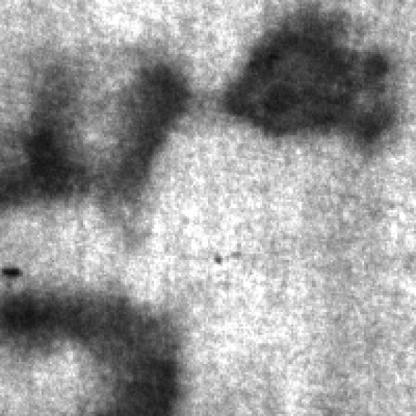patches: (224, 13, 400, 138), (6, 287, 181, 412), (98, 52, 198, 210), (2, 54, 94, 212)
